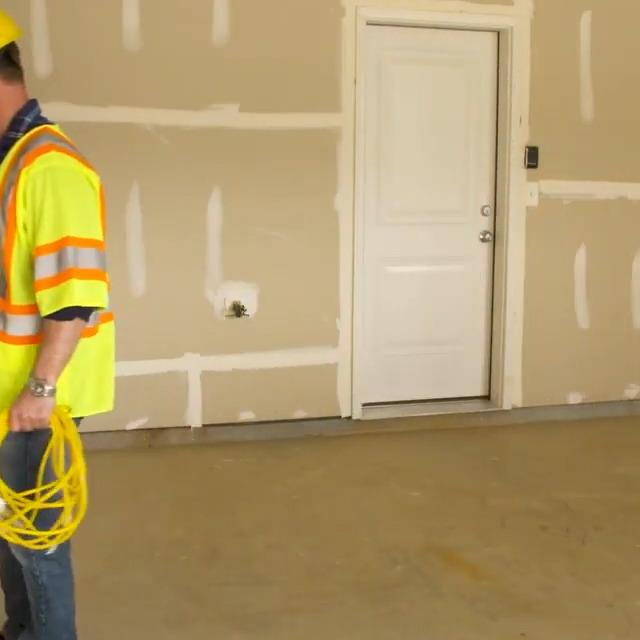Person: (0, 0, 113, 640)
Safety Vest: (0, 125, 112, 420)
